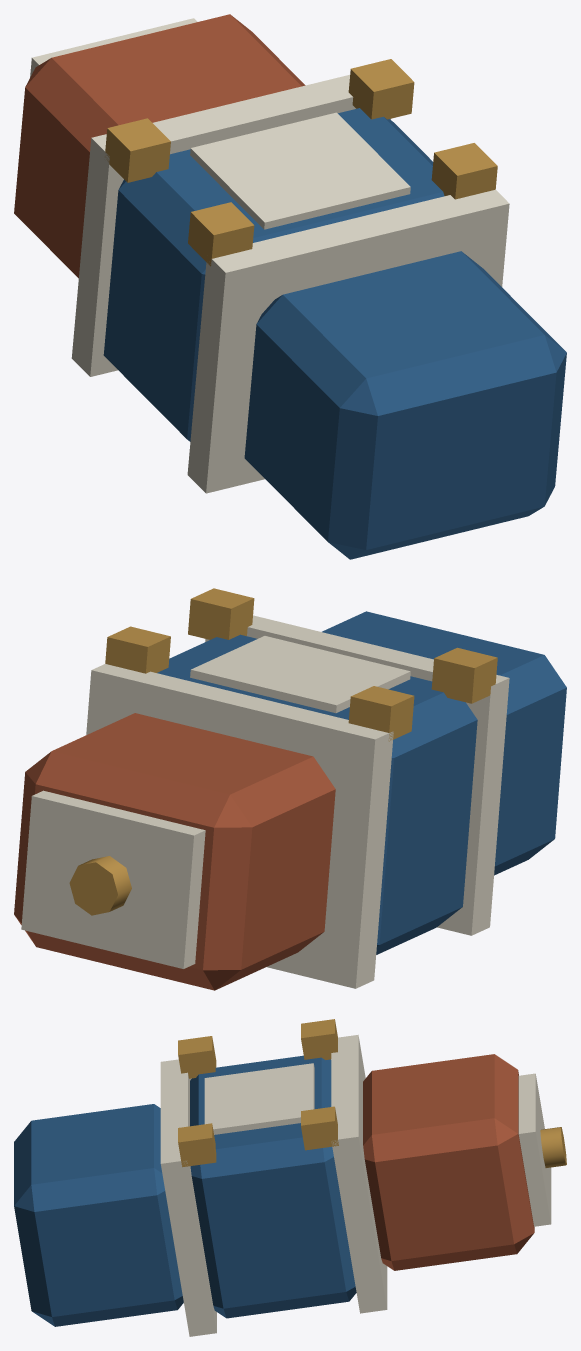
The model's file is rm2_abdomen.obj.
3 views of the same model, one above another, from view 1: azimuth 30°, elevation 25°; view 2: azimuth 150°, elevation 25°; view 3: azimuth 270°, elevation 25° (orthographic). The views are drawn at different scales.
Visible parts, largest first — view 1: rm2_abdomen; view 2: rm2_abdomen; view 3: rm2_abdomen.
Part boxes in pixels (x1=…): rm2_abdomen: x1=14, y1=14, x2=566, y2=559; rm2_abdomen: x1=14, y1=588, x2=566, y2=990; rm2_abdomen: x1=14, y1=1019, x2=566, y2=1336.
Bounding box in the file's own units: 0.35 × 0.3597 × 0.8018.
